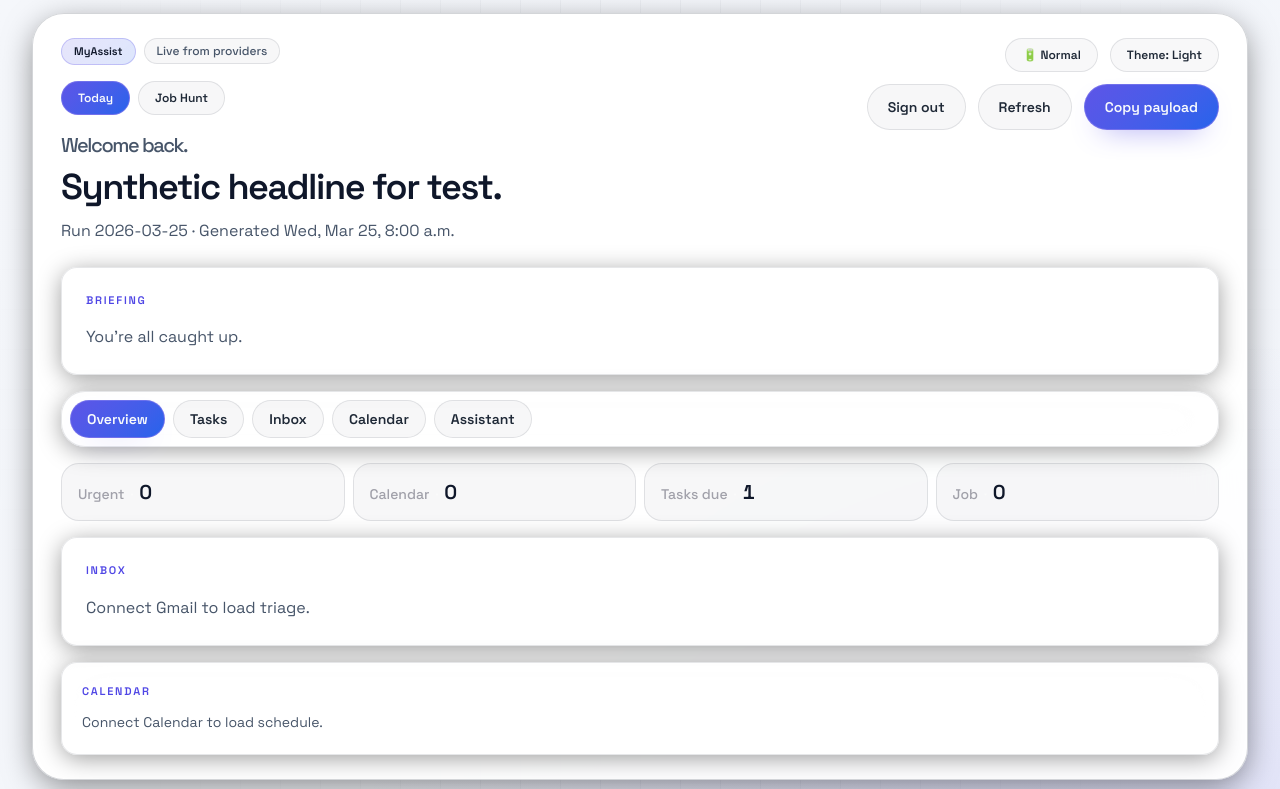
Scenario: Dashboard › persists handled email items and hides them from the list
Click the button "Inbox" at (288, 419), box left=252, top=400, right=324, bottom=438
(page scrolled)
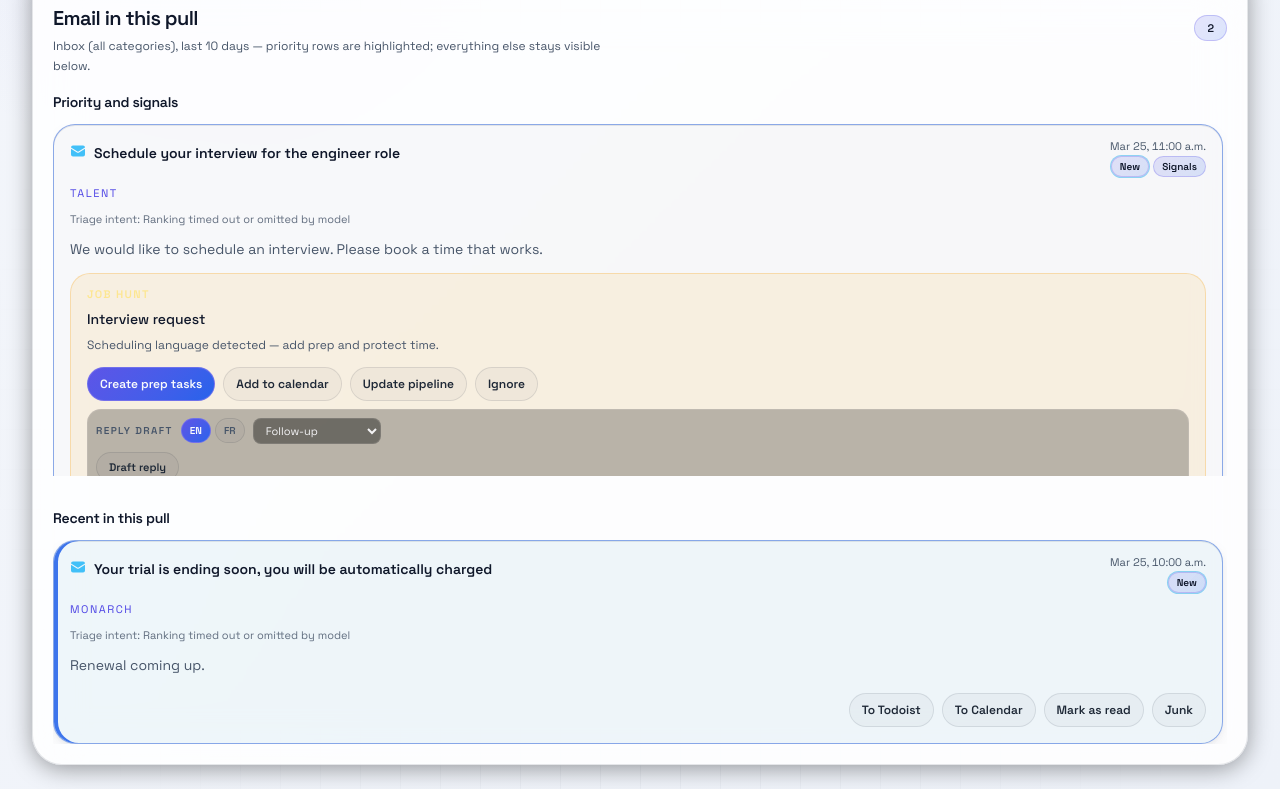
Click the button "Mark as read" at (1094, 710), box left=1044, top=693, right=1144, bottom=727
(page scrolled)
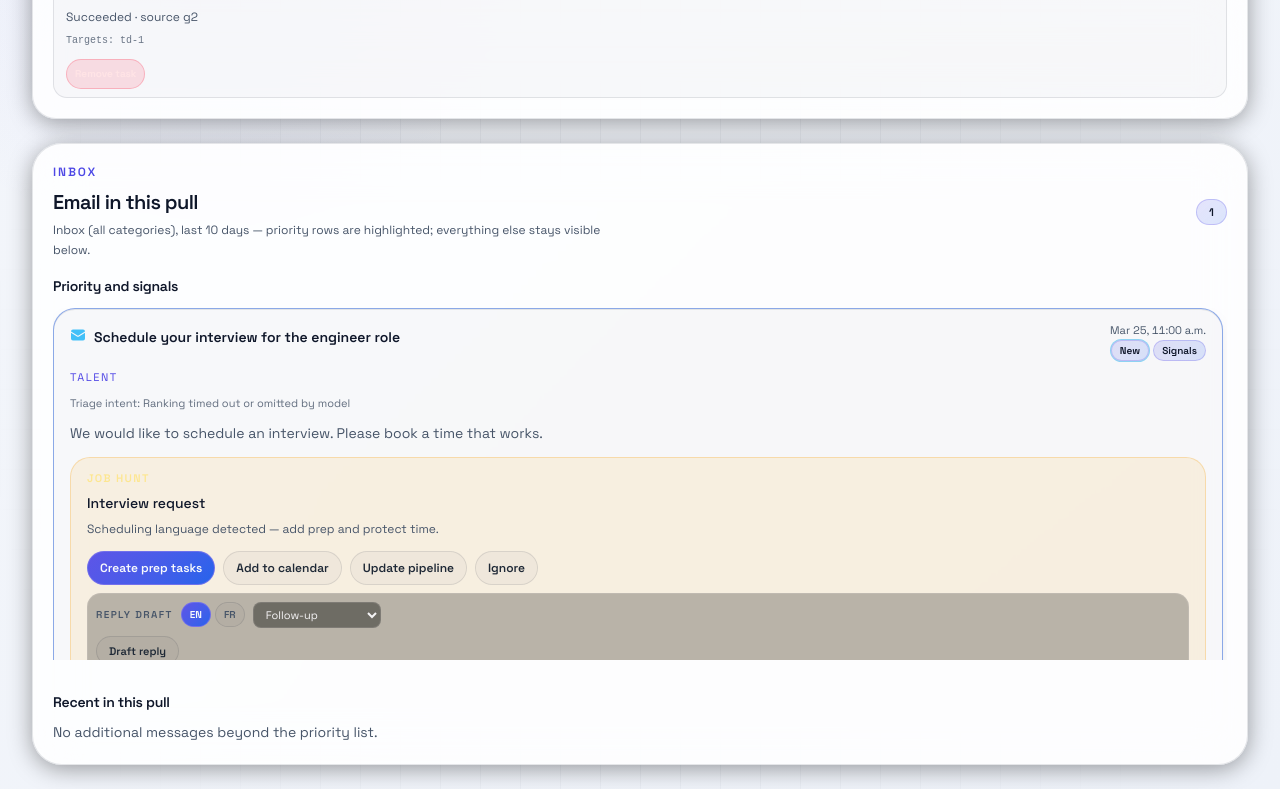
Now the text "Your trial is ending soon, you will be automatically charged" is gone
